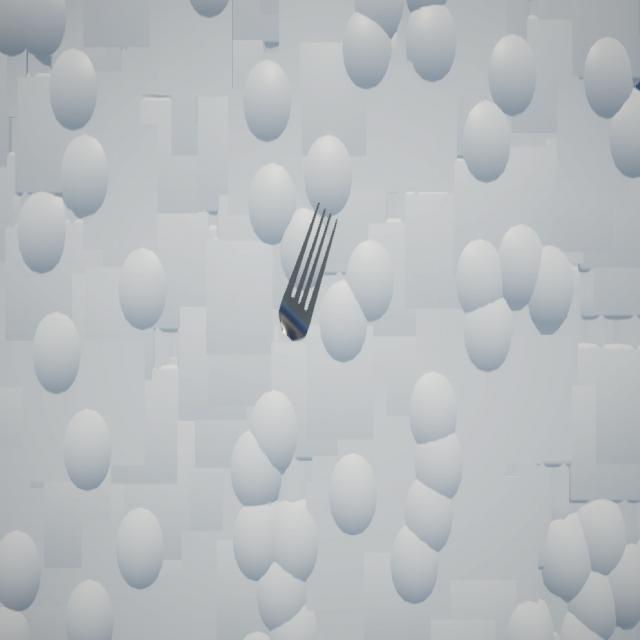top_folk: (280, 202, 338, 343)
